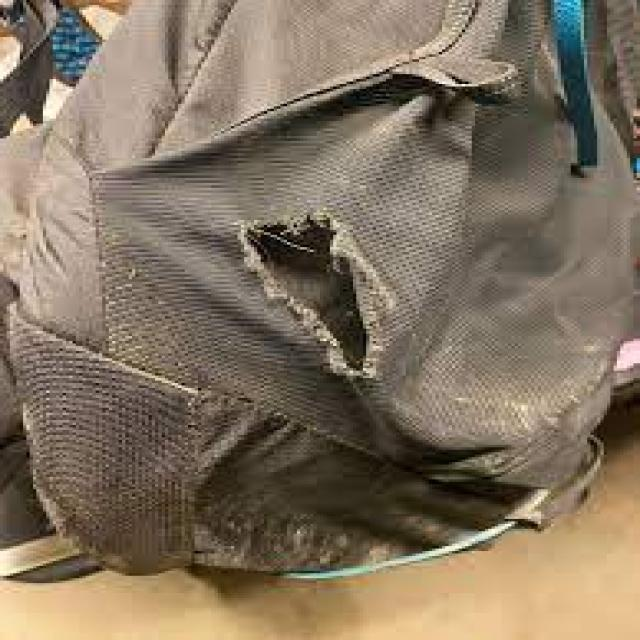Damage-bag: (238, 211, 397, 381)
